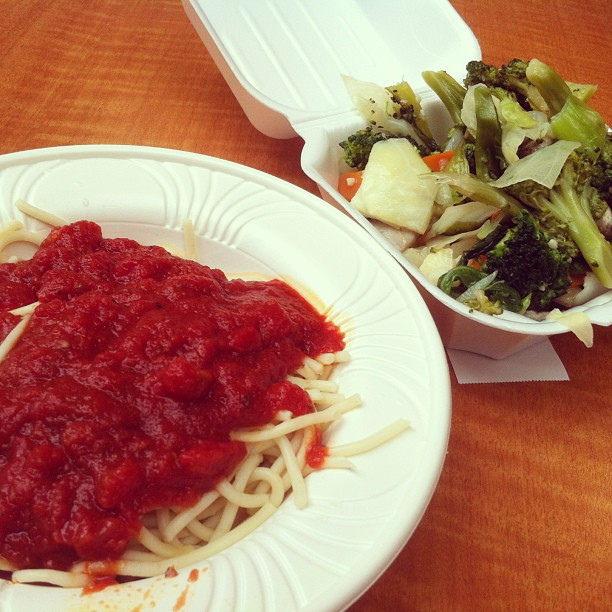chopped lettuce: (346, 65, 601, 296)
plain spaghetti: (116, 345, 364, 549)
